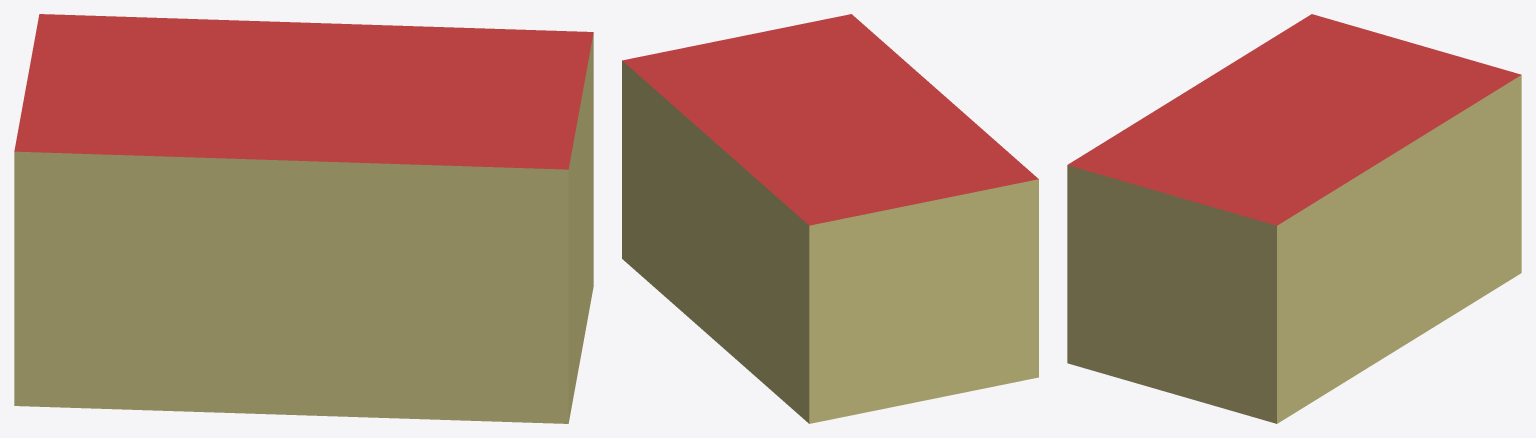
3 renders of one model, left to right at view 1: azimuth 30°, elevation 25°; view 2: azimuth 150°, elevation 25°; view 3: azimuth 270°, elevation 25°, orthographic. The views are drawn at different scales.
Size of the model in its own units: 12.89 by 11.69 by 5.62.
